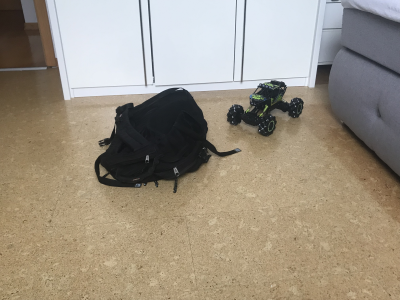remote control car: (223, 77, 306, 139)
